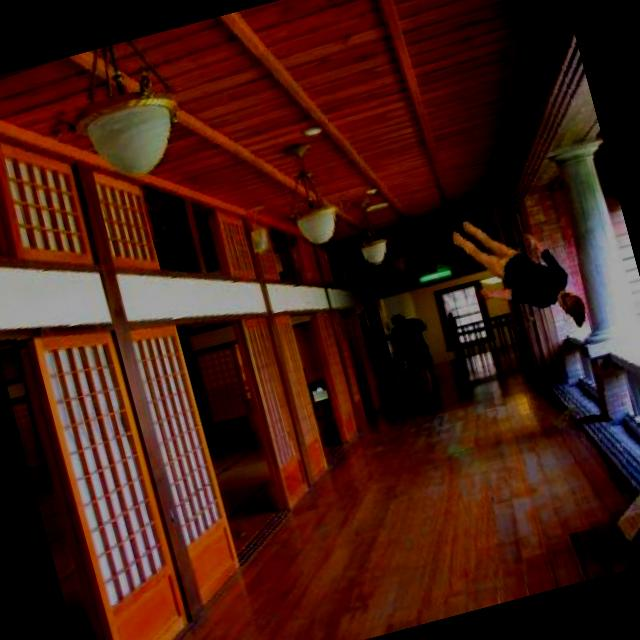Person: (442, 192, 594, 358)
